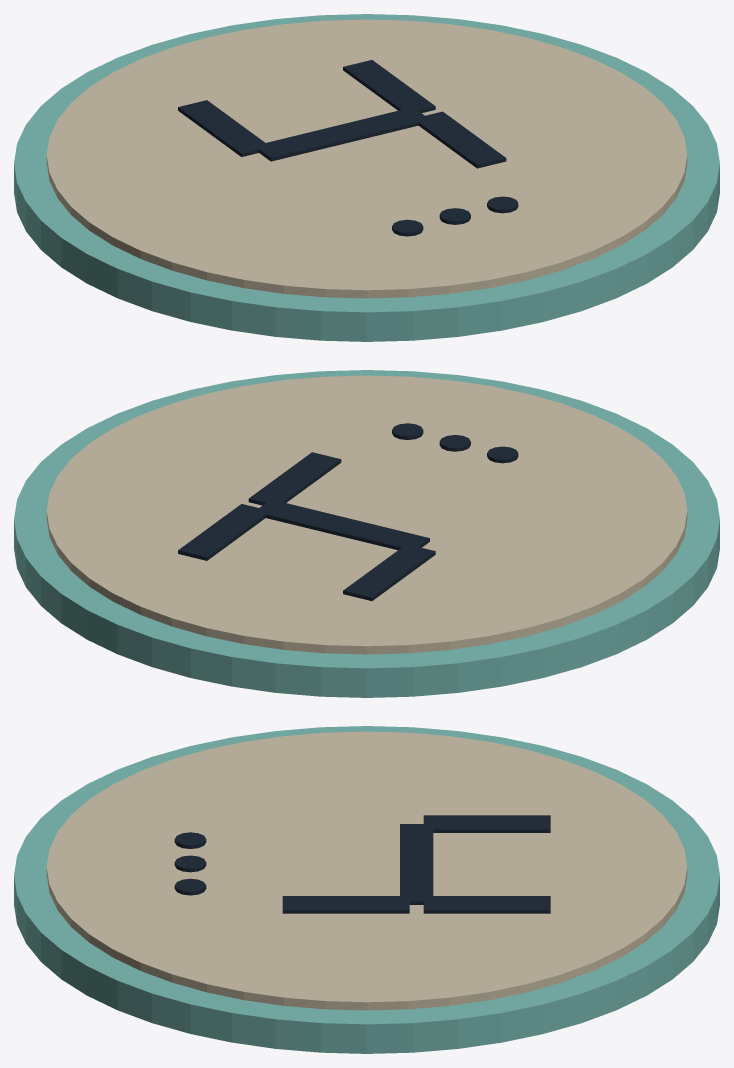
The model's file is space_number_4.glb.
3 views of the same model, one above another, from view 1: azimuth 30°, elevation 25°; view 2: azimuth 150°, elevation 25°; view 3: azimuth 270°, elevation 25° (orthographic).
Parts seen in each view (by area): view 1: FixedDetails; view 2: FixedDetails; view 3: FixedDetails.
Boxes of the visible parts, x1,y1,x2,y2 form: FixedDetails: (14, 14, 719, 341); FixedDetails: (14, 370, 719, 697); FixedDetails: (14, 726, 719, 1053).
Bounding box in the file's own units: 0.54 × 0.036 × 0.54.
